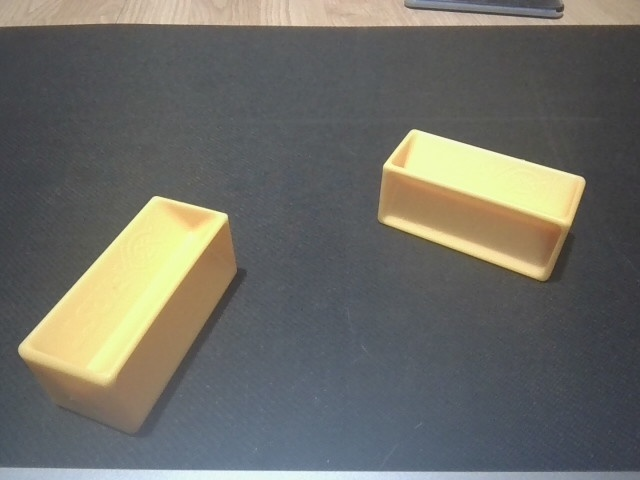YellowSample: (16, 193, 241, 438), (373, 127, 591, 286)
